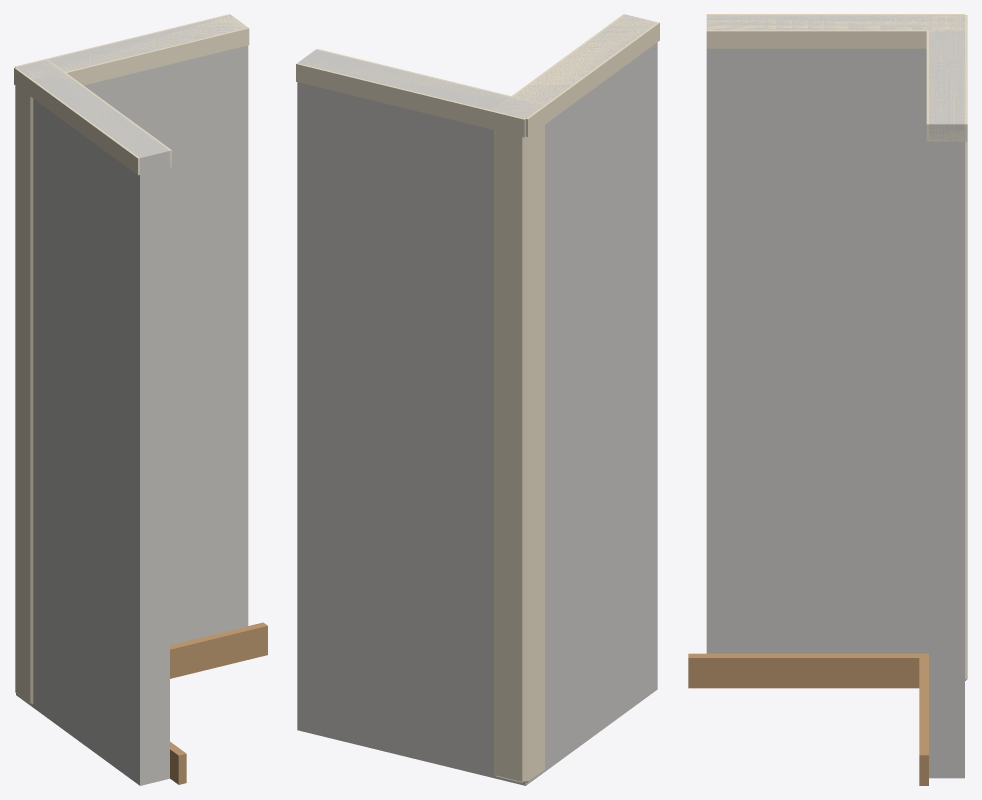
File: env_interior_corner_01.glb
The picture shows the model from 3 angles, left to right: view 1: azimuth 30°, elevation 25°; view 2: azimuth 150°, elevation 25°; view 3: azimuth 270°, elevation 25°; orthographic projection. The views are drawn at different scales.
Parts seen in each view (by area): view 1: env_interior_corner_01_body; view 2: env_interior_corner_01_body; view 3: env_interior_corner_01_body.
Boxes of the visible parts, <box> form: env_interior_corner_01_body: <box>14,14,267,785</box>; env_interior_corner_01_body: <box>296,14,659,785</box>; env_interior_corner_01_body: <box>688,14,967,785</box>.
Bounding box in the file's own units: 1.16 × 3 × 1.16.
